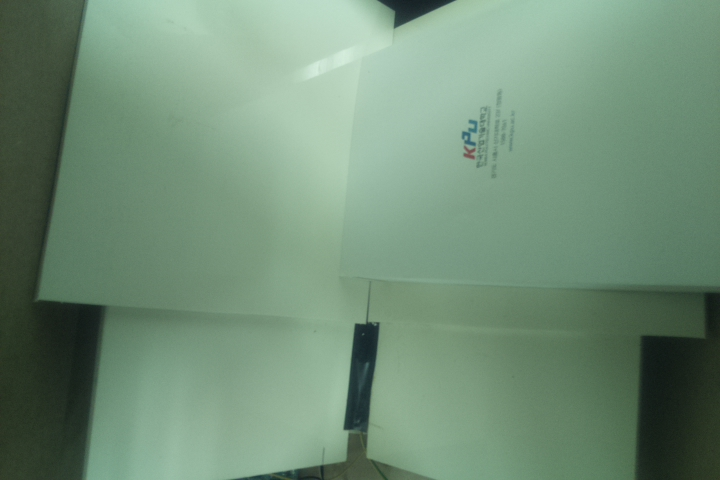book: (335, 1, 720, 299)
